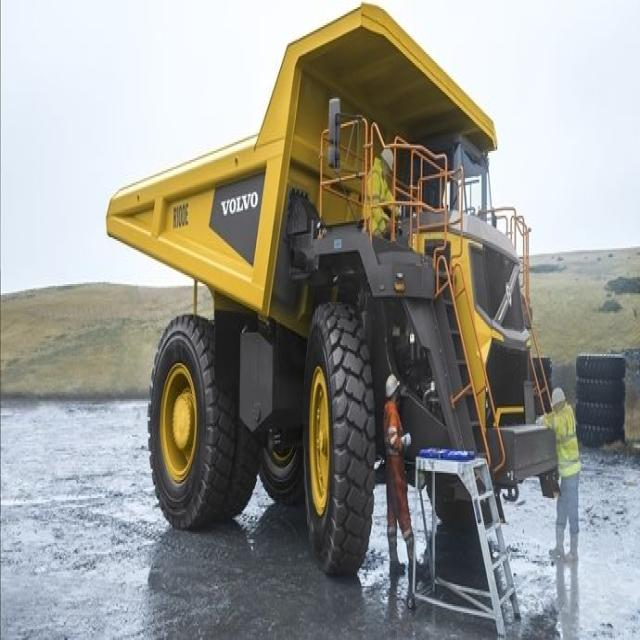dump_truck: (99, 7, 572, 561)
